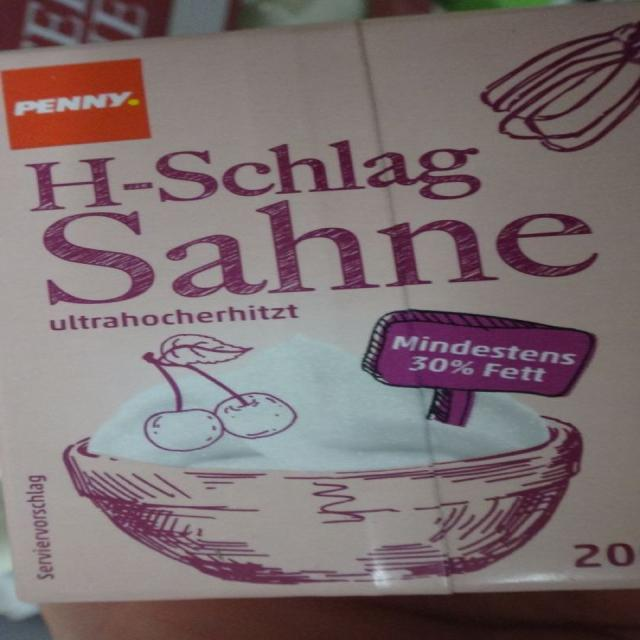cream: (0, 5, 640, 604)
